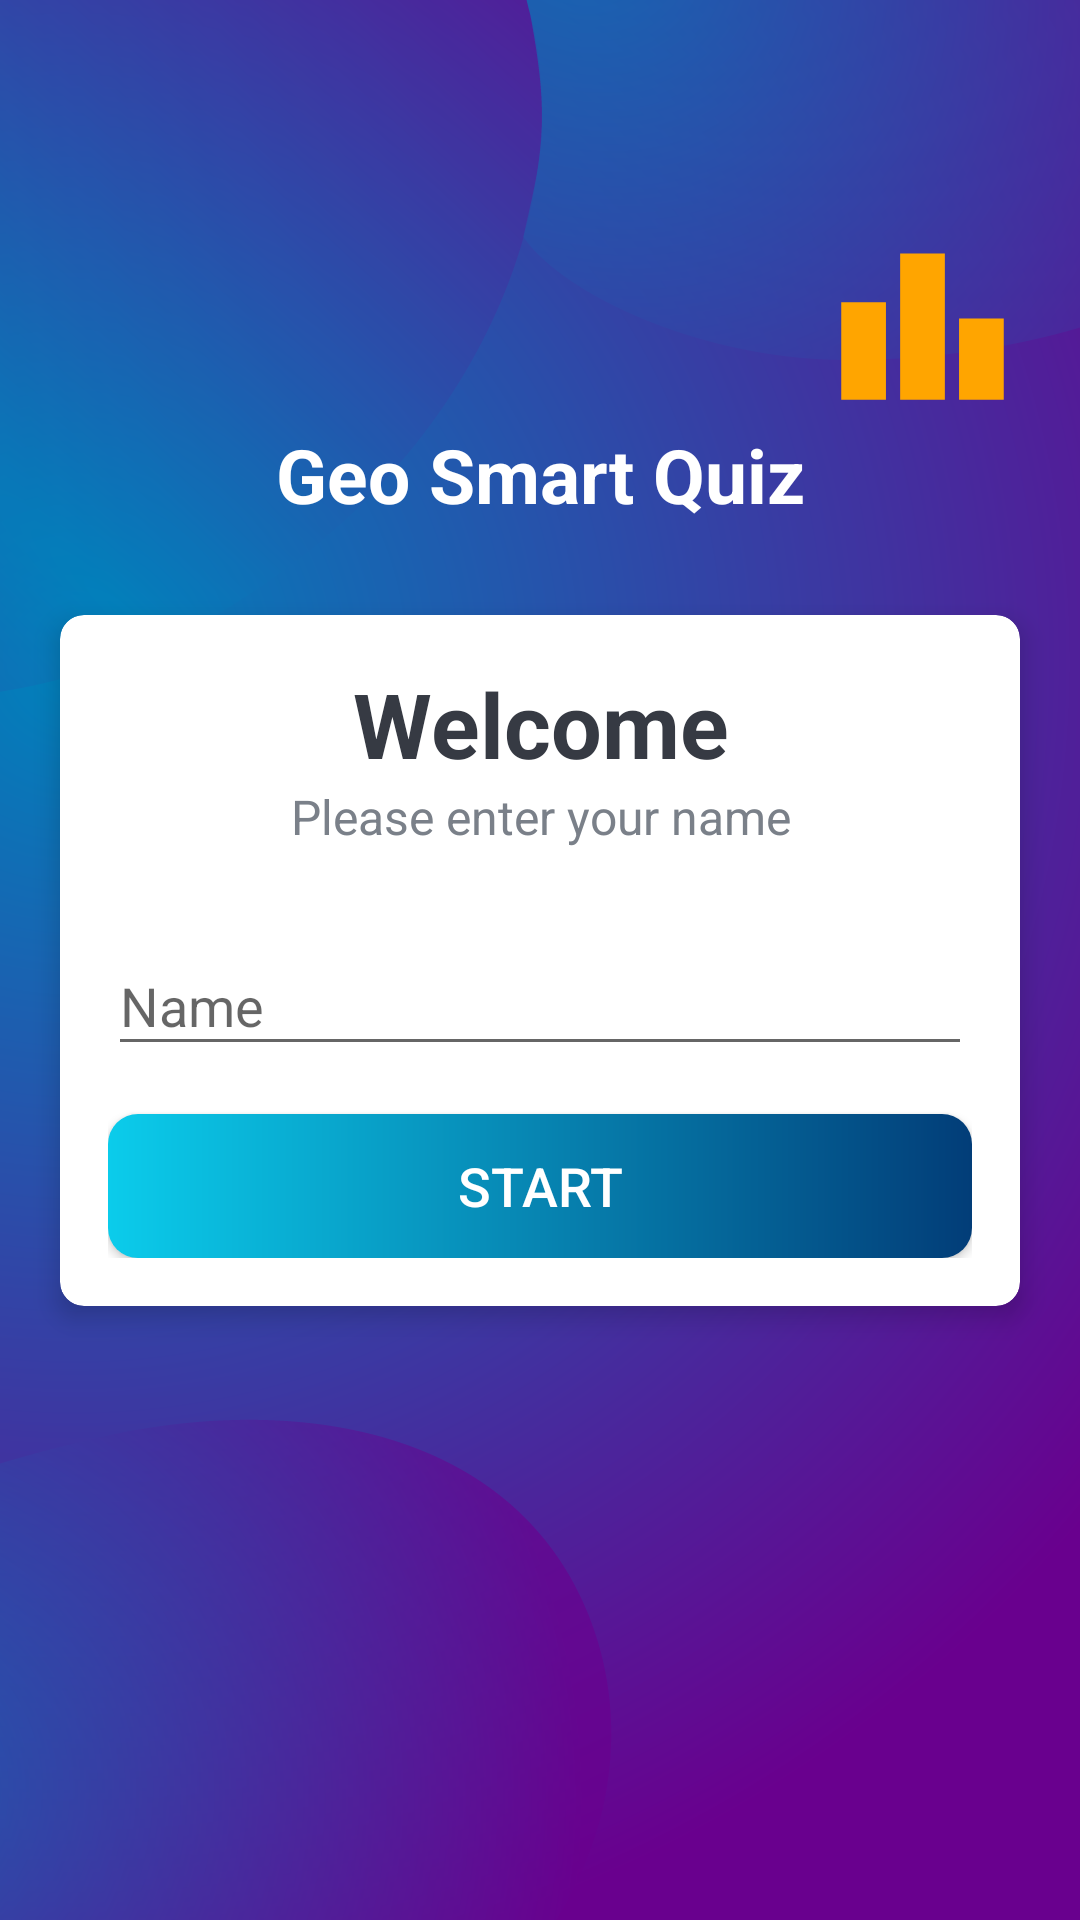

Point at icon controls on the screen. Image size 1080*1920, points as [x,y].
leaderboard: [922,326]
